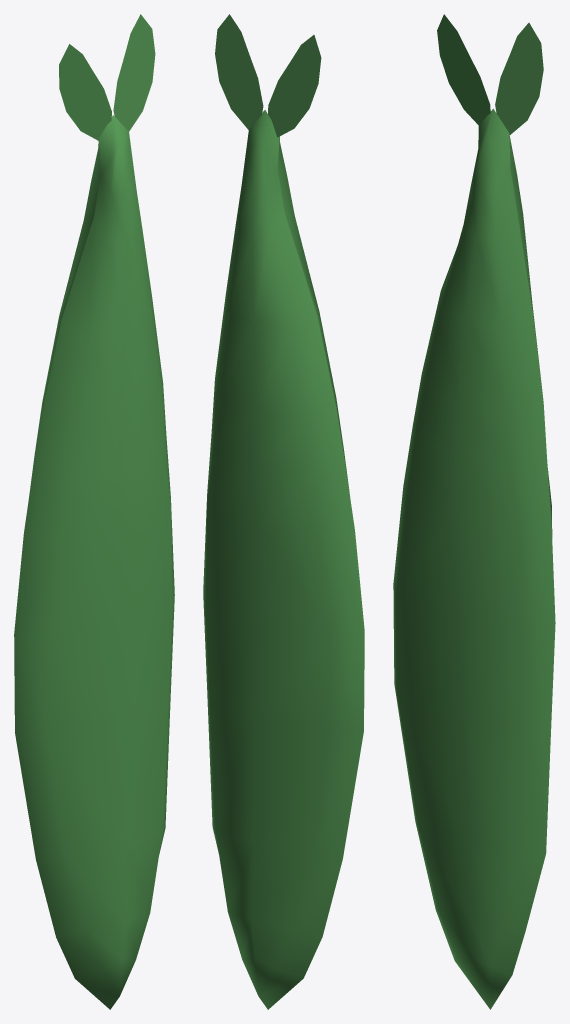
The model's file is Fish_2.fbx.
3 renders of one model, left to right at view 1: azimuth 30°, elevation 25°; view 2: azimuth 150°, elevation 25°; view 3: azimuth 330°, elevation 25°, orthographic.
Parts seen in each view (by area): view 1: R1; view 2: R1; view 3: R1.
Boxes of the visible parts, x1,y1,x2,y2 form: R1: (14,14,174,1009); R1: (203,14,364,1009); R1: (393,14,555,1009).
Bounding box in the file's own units: 31.36 × 184 × 15.26.
